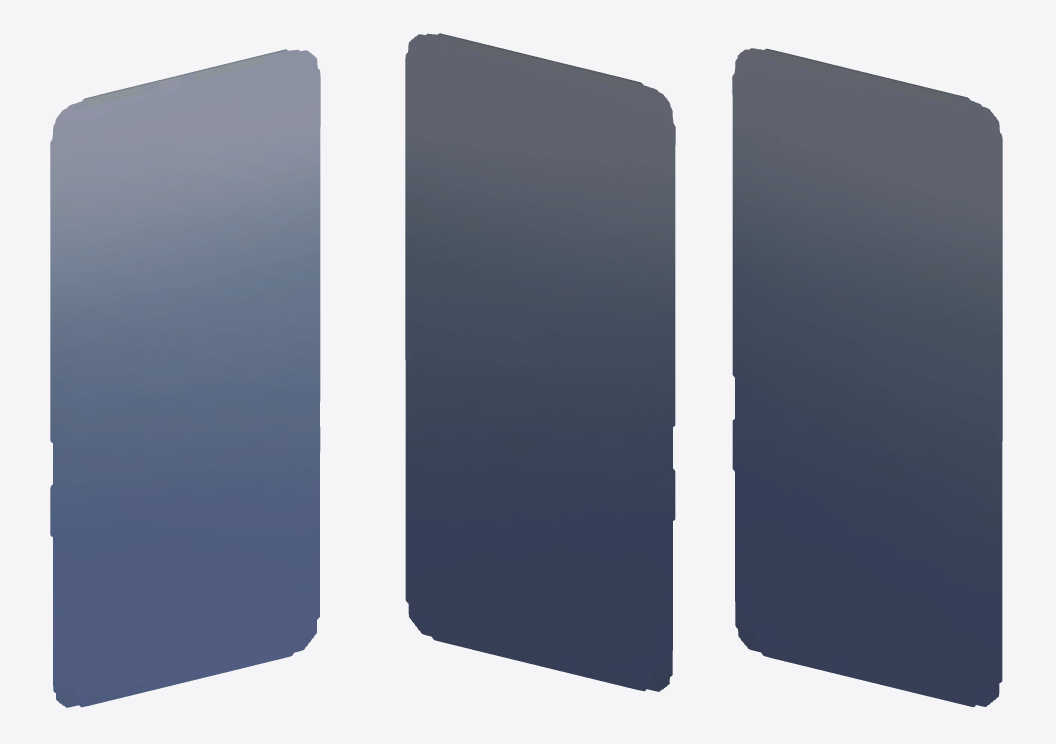
The model's file is Player_Kid_Bailu_LookAtPhone_00.fbx.
3 views of the same model, side by side, from view 1: azimuth 30°, elevation 25°; view 2: azimuth 150°, elevation 25°; view 3: azimuth 330°, elevation 25° (orthographic).
Visible parts, largest first — view 1: LookAtPhone_00_Phone_Model; view 2: LookAtPhone_00_Phone_Model; view 3: LookAtPhone_00_Phone_Model.
Part boxes in pixels (box(x1,y1,x2,y2)): LookAtPhone_00_Phone_Model: box(50, 49, 320, 707); LookAtPhone_00_Phone_Model: box(405, 33, 675, 691); LookAtPhone_00_Phone_Model: box(732, 48, 1002, 706).
Bounding box in the file's own units: 0.0495 × 0.0996 × 0.00608.
1 material, 1 textured.
